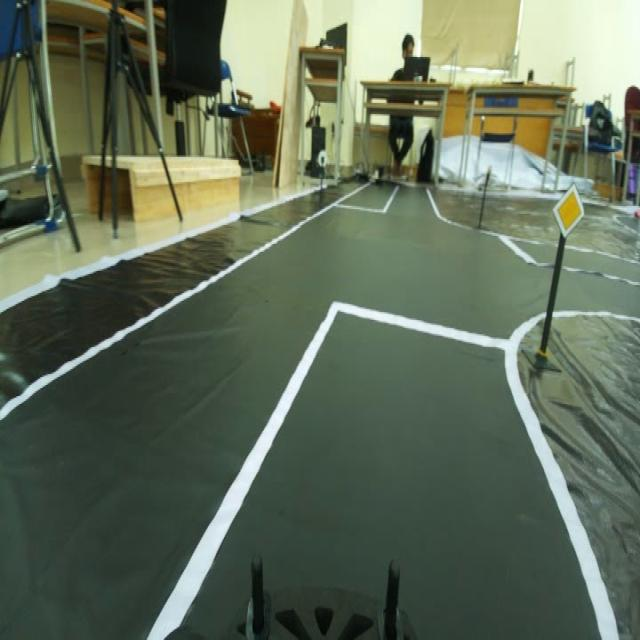priority: (549, 177, 587, 244)
